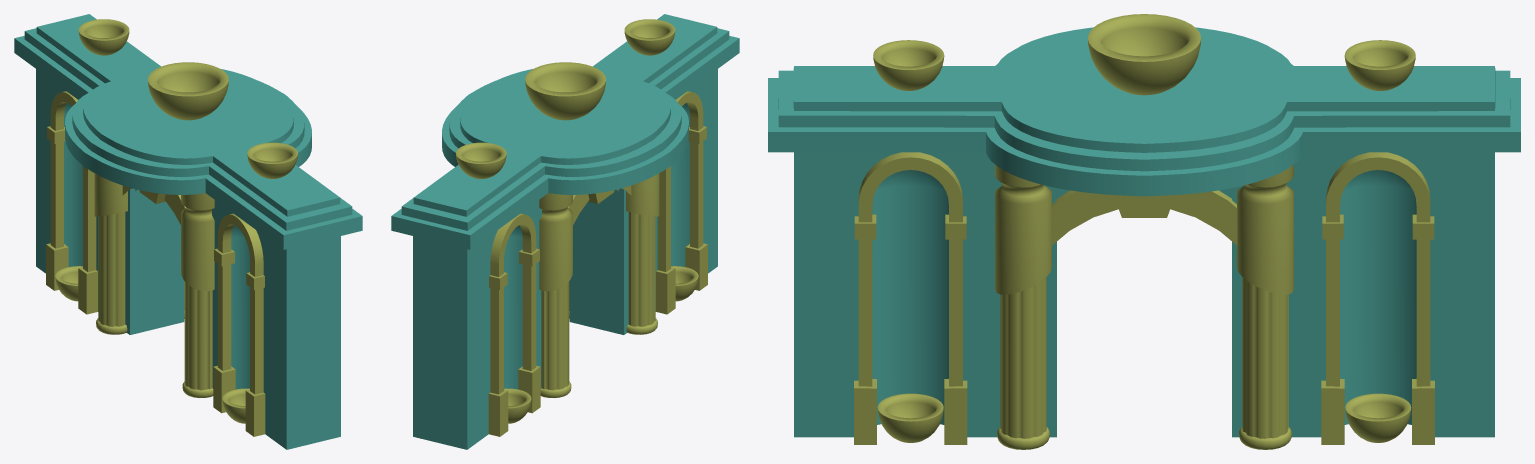
Rendered from SM_Building_Gate.fbx.
The picture shows the model from 3 angles, left to right: view 1: azimuth 30°, elevation 25°; view 2: azimuth 150°, elevation 25°; view 3: azimuth 270°, elevation 25°; orthographic projection. The views are drawn at different scales.
Parts seen in each view (by area): view 1: Low_Gate2_Gate_03_Low_Gate_03_Low; view 2: Low_Gate2_Gate_03_Low_Gate_03_Low; view 3: Low_Gate2_Gate_03_Low_Gate_03_Low.
Part boxes in pixels (x1,y1,x2,y2): Low_Gate2_Gate_03_Low_Gate_03_Low: [14, 14, 362, 449]; Low_Gate2_Gate_03_Low_Gate_03_Low: [391, 14, 739, 449]; Low_Gate2_Gate_03_Low_Gate_03_Low: [768, 14, 1520, 449].
Bounding box in the file's own units: 574 × 721 × 1288.
